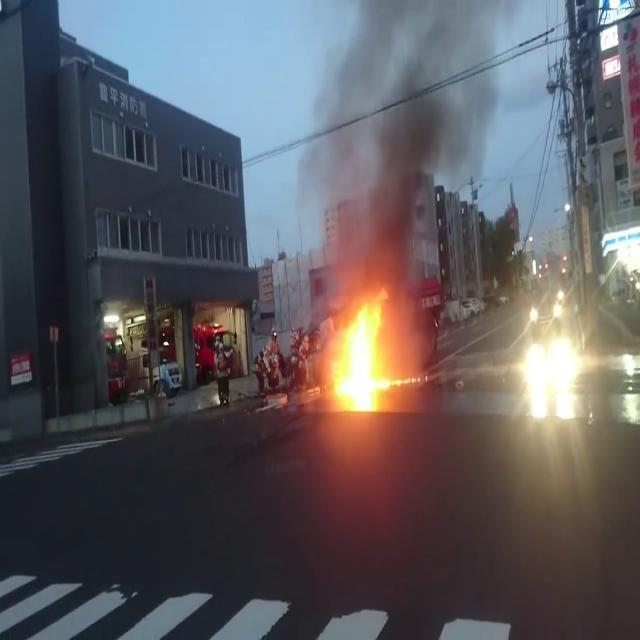Fire: (327, 294, 425, 394)
